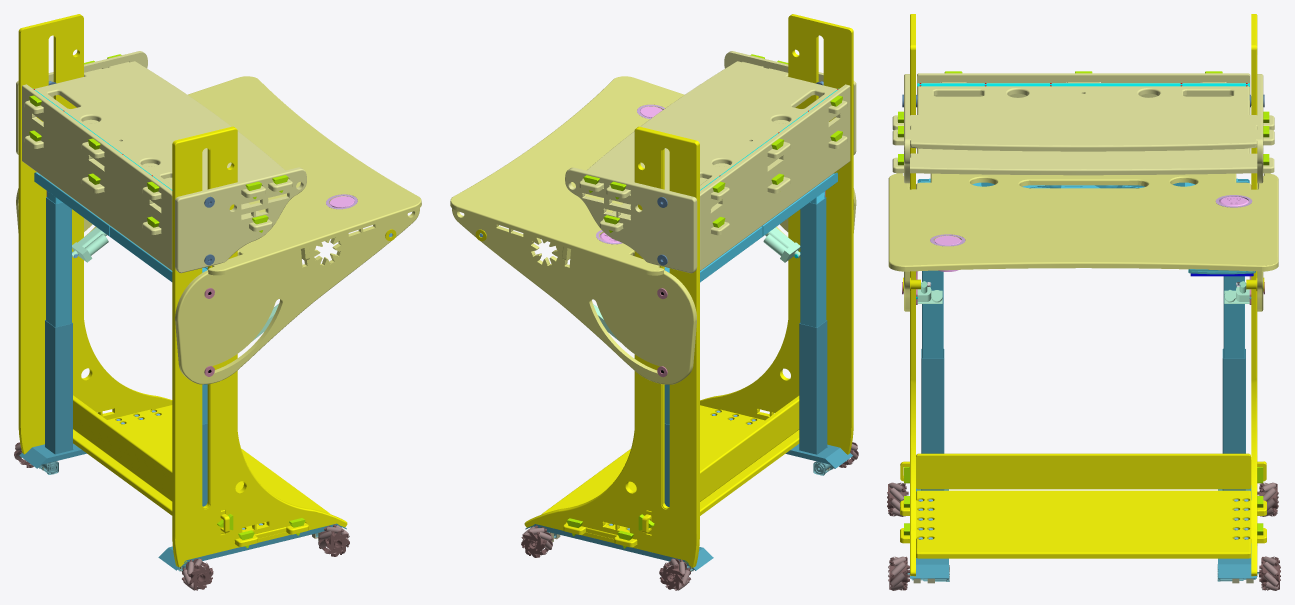
Rendered from desk-public.glb.
3 views of the same model, side by side, from view 1: azimuth 30°, elevation 25°; view 2: azimuth 150°, elevation 25°; view 3: azimuth 270°, elevation 25° (orthographic). The views are drawn at different scales.
Visible parts, largest first — view 1: Base_Panels (×4), Top_Shelf (×5), Desktop (×2), Lift_Column_Bottom (×3), Lift_Column_Center, Lift_Column_Top (×2); view 2: Base_Panels (×4), Top_Shelf (×5), Desktop (×2), Lift_Column_Bottom (×3), Lift_Column_Center, Lift_Column_Top (×2); view 3: Base_Panels (×4), Top_Shelf (×5), Desktop, Lift_Column_Bottom (×4), Lift_Column_Center (×2), Leds.
Part boxes in pixels (<box>): Base_Panels (×4): <box>18,14,347,567</box>; Top_Shelf (×5): <box>16,51,306,273</box>; Desktop (×2): <box>175,76,421,384</box>; Lift_Column_Bottom (×3): <box>19,320,346,570</box>; Lift_Column_Center: <box>46,197,71,327</box>; Lift_Column_Top (×2): <box>34,172,207,281</box>; Base_Panels (×4): <box>524,14,853,567</box>; Top_Shelf (×5): <box>565,51,856,273</box>; Desktop (×2): <box>450,76,696,384</box>; Lift_Column_Bottom (×3): <box>525,320,852,570</box>; Lift_Column_Center: <box>800,197,826,327</box>; Lift_Column_Top (×2): <box>664,172,837,282</box>; Base_Panels (×4): <box>900,14,1266,576</box>; Top_Shelf (×5): <box>892,73,1274,183</box>; Desktop: <box>888,173,1278,271</box>; Lift_Column_Bottom (×4): <box>910,348,1257,578</box>; Lift_Column_Center (×2): <box>922,270,1244,358</box>; Leds: <box>917,83,1249,86</box>.
Bounding box in the file's own units: 38.28 × 64.78 × 46.9.
